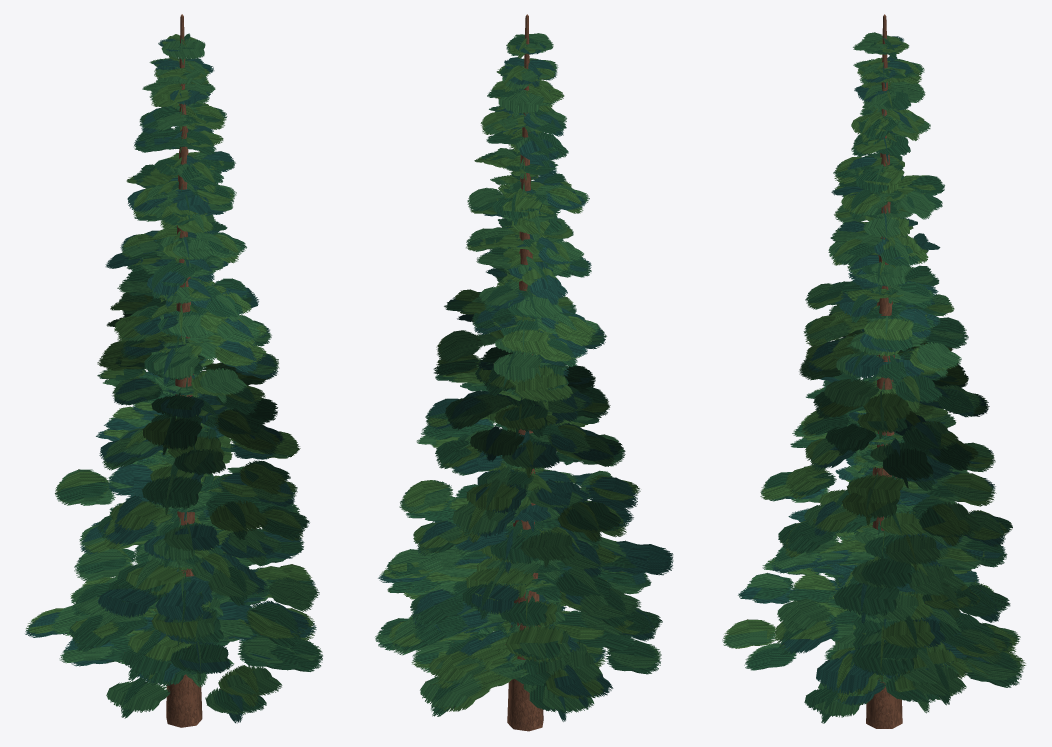
Rendered from hero_spruce_a_lod1.obj.
3 renders of one model, left to right at view 1: azimuth 30°, elevation 25°; view 2: azimuth 150°, elevation 25°; view 3: azimuth 270°, elevation 25°, orthographic.
Visible parts, largest first — view 1: hero_spruce_a_lod1; view 2: hero_spruce_a_lod1; view 3: hero_spruce_a_lod1.
Part boxes in pixels (x1,y1,x2,y2): hero_spruce_a_lod1: (25,14,322,727); hero_spruce_a_lod1: (375,14,673,731); hero_spruce_a_lod1: (722,14,1025,728).
Size of the model in its own units: 6.51 by 16.21 by 6.77.
2 materials, 2 textured.
